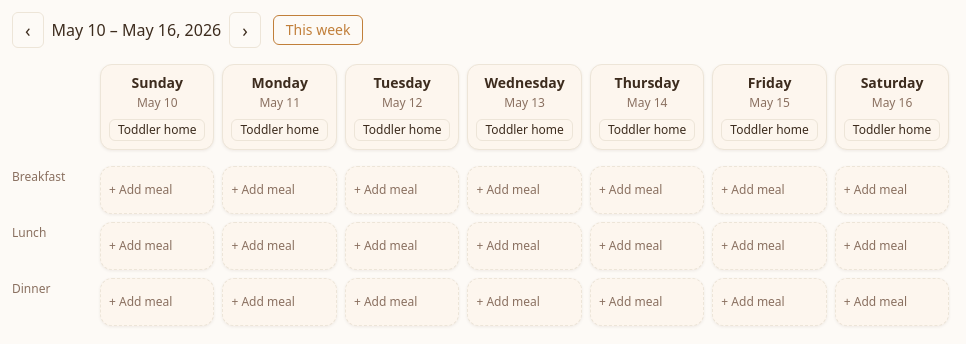
Test case: Feature 001 sign-off — AC-007 Sunday is first column › renders Sunday as the first day column for current, previous, and next week
Expected: the header with test id "day-header" shows "Sunday", 132,73 -> 183,92
Expected: the header with test id "day-header" shows "Saturday", 861,73 -> 923,92
Click the button named "previous week": (28, 30) 12,12 -> 44,48
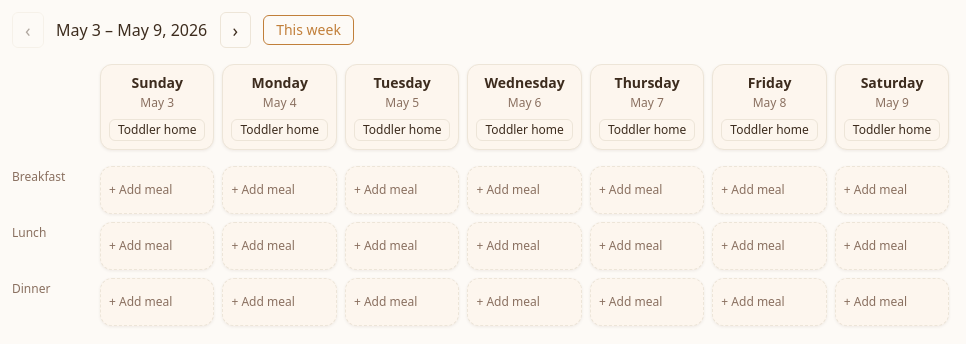
Expected: the header with test id "day-header" shows "Sunday", 132,73 -> 183,92
Expected: the text "May 3" is shown, 140,94 -> 174,111
Click the button "This week": (309, 30) 263,15 -> 354,45
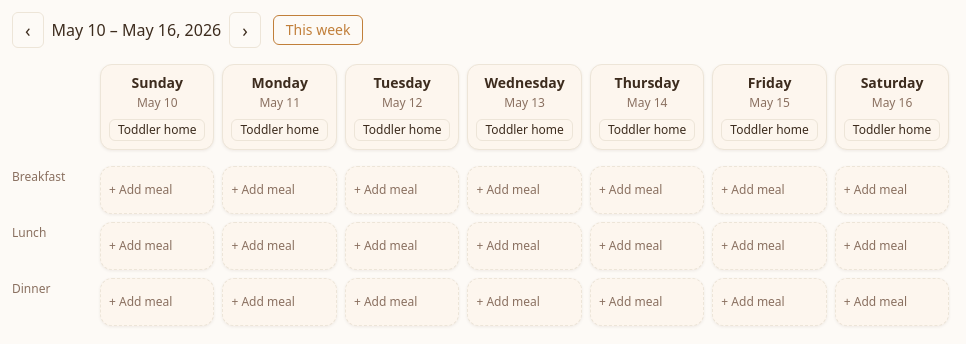
Click the button named "next week": (245, 30) 229,12 -> 261,48
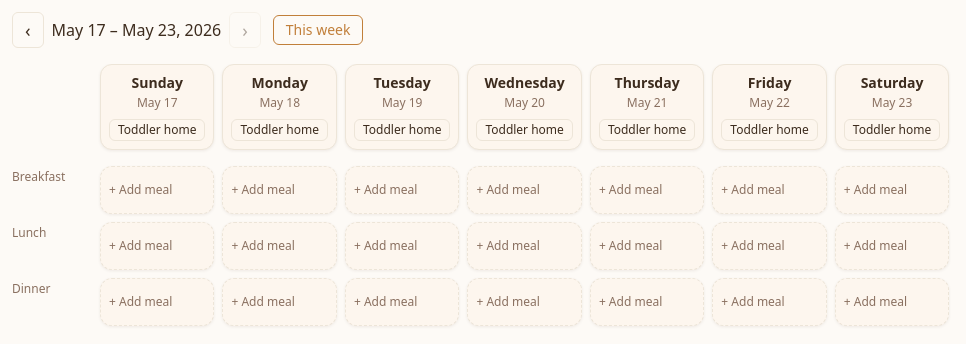
Expected: the header with test id "day-header" shows "Sunday", 132,73 -> 183,92
Expected: the text "May 17" is shown, 137,94 -> 178,111
